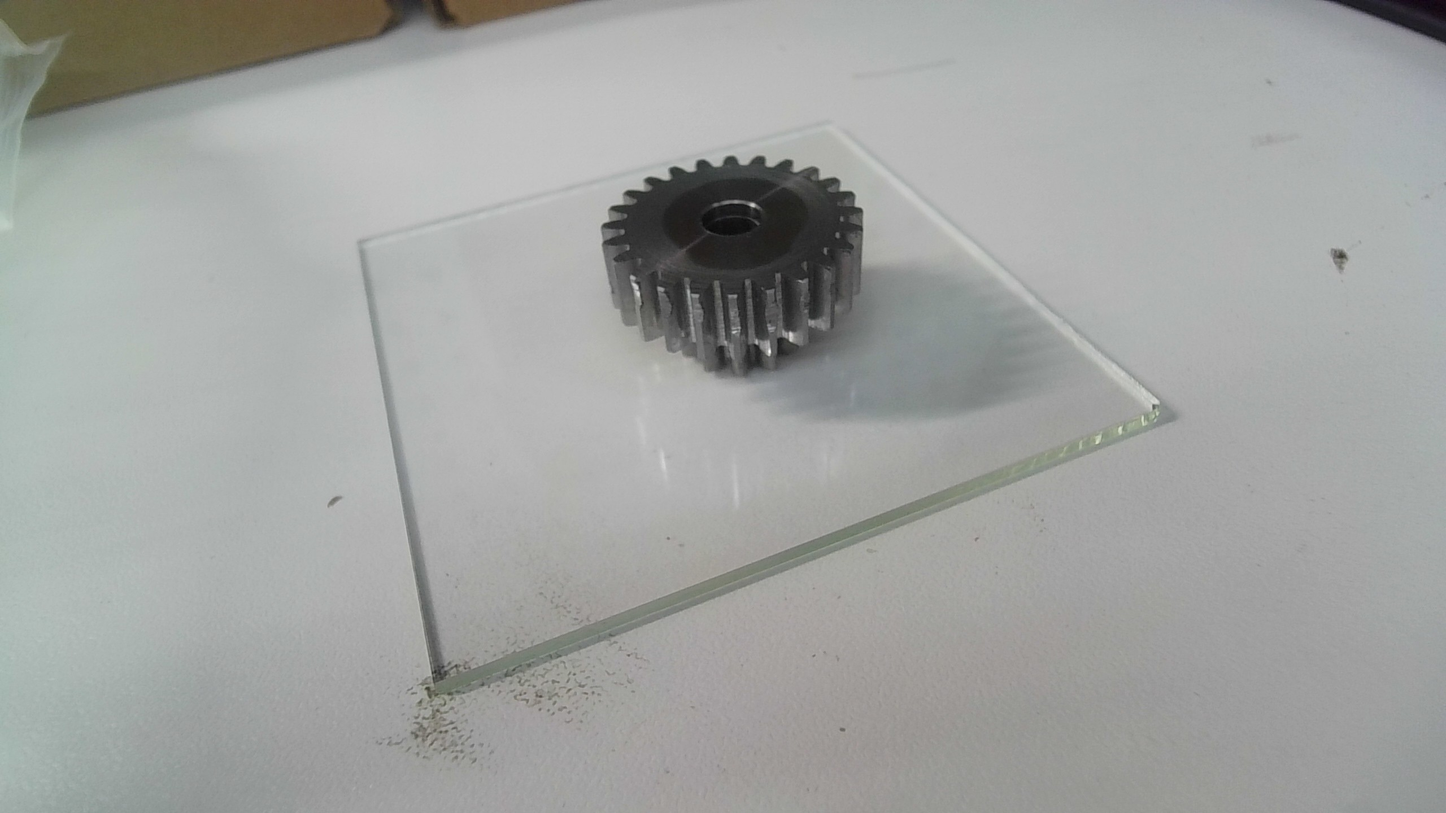gear: (594, 154, 865, 380)
